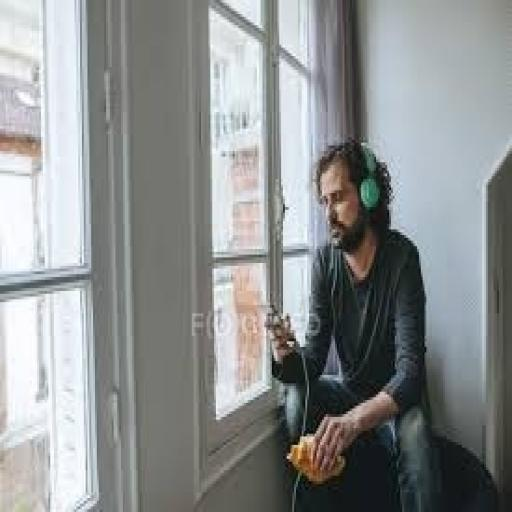listening_to_music: (262, 134, 432, 509)
